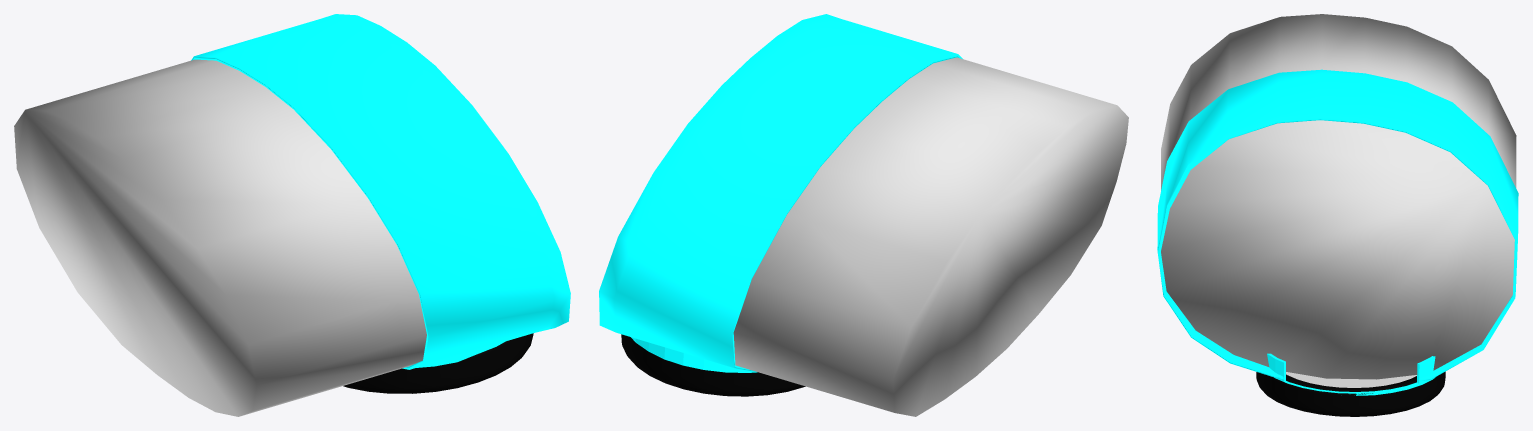
File: lefthandextension.fbx
3 renders of one model, left to right at view 1: azimuth 30°, elevation 25°; view 2: azimuth 150°, elevation 25°; view 3: azimuth 270°, elevation 25°, orthographic. The views are drawn at different scales.
Parts seen in each view (by area): view 1: l_handMeshNode.003, l_handMeshNode.001, l_handMeshNode.005; view 2: l_handMeshNode.003, l_handMeshNode.001, l_handMeshNode.005; view 3: l_handMeshNode.003, l_handMeshNode.001, l_handMeshNode.005, l_handMeshNode.004.
Boxes of the visible parts, x1=… form: l_handMeshNode.003: x1=14, y1=59, x2=426, y2=416; l_handMeshNode.001: x1=191, y1=14, x2=570, y2=369; l_handMeshNode.005: x1=343, y1=333, x2=533, y2=393; l_handMeshNode.003: x1=733, y1=57, x2=1128, y2=416; l_handMeshNode.001: x1=599, y1=14, x2=962, y2=372; l_handMeshNode.005: x1=621, y1=334, x2=805, y2=396; l_handMeshNode.003: x1=1161, y1=14, x2=1516, y2=379; l_handMeshNode.001: x1=1157, y1=69, x2=1518, y2=395; l_handMeshNode.005: x1=1256, y1=371, x2=1445, y2=416; l_handMeshNode.004: x1=1286, y1=372, x2=1416, y2=387.
Bounding box in the file's own units: 5.95 × 4.24 × 5.34.
